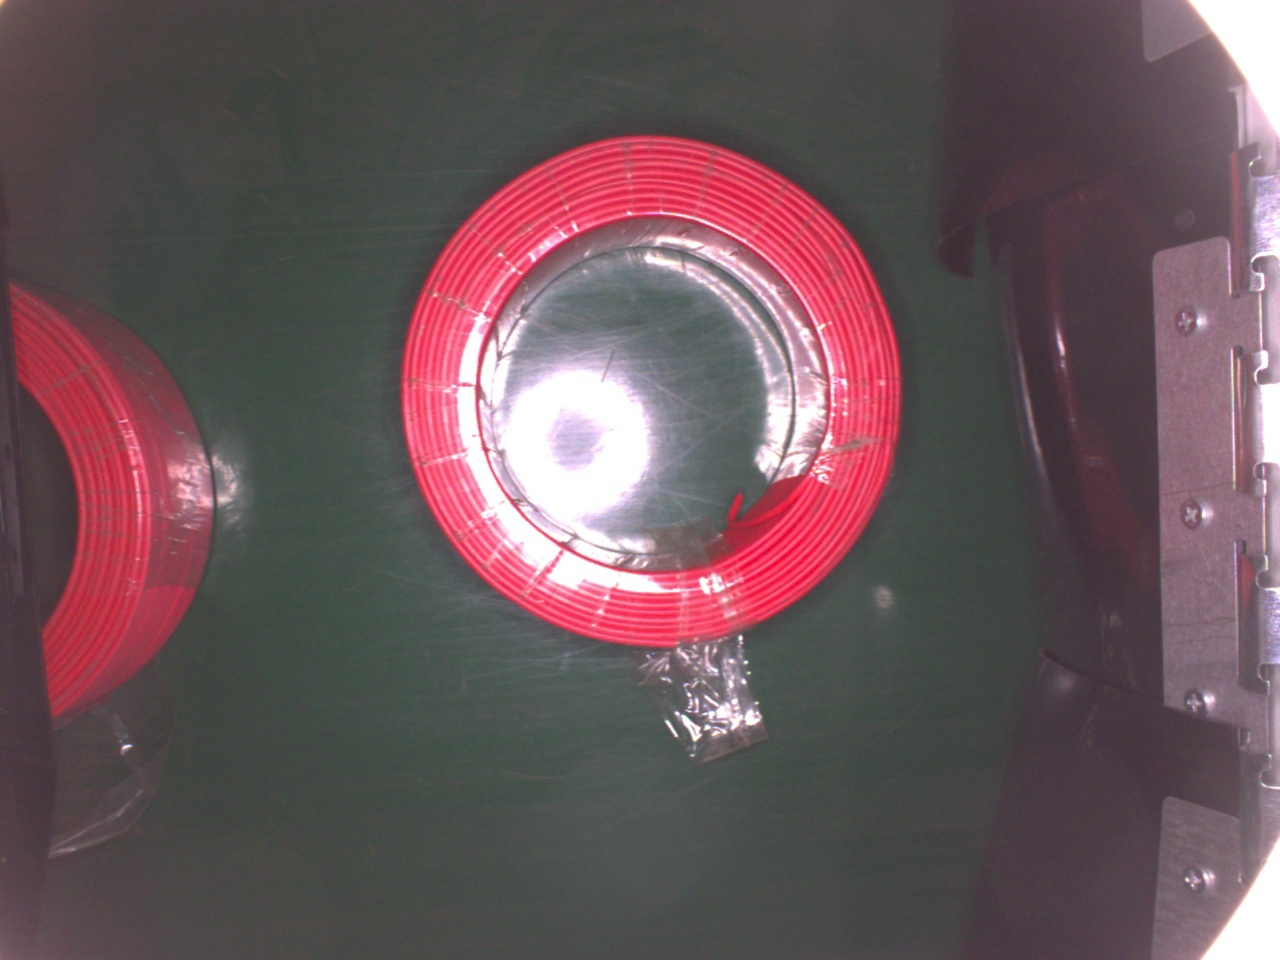red: (398, 134, 903, 648), (5, 272, 217, 718)
